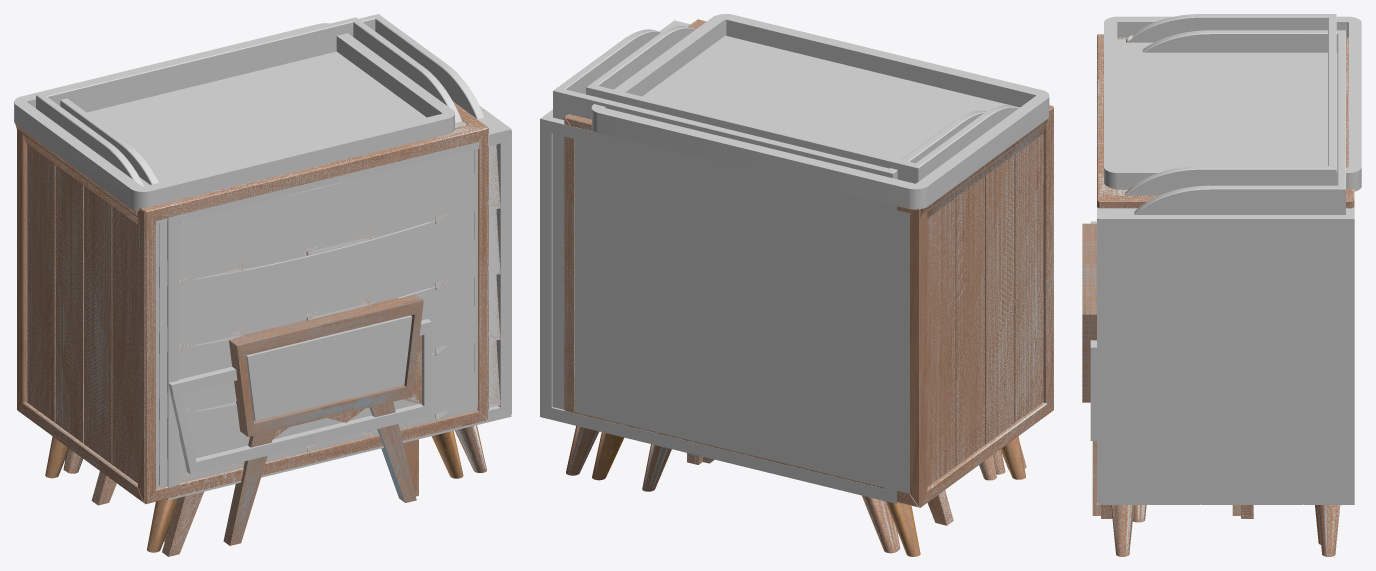
The model's file is Furniture-52.fbx.
3 views of the same model, side by side, from view 1: azimuth 30°, elevation 25°; view 2: azimuth 150°, elevation 25°; view 3: azimuth 270°, elevation 25° (orthographic). The views are drawn at different scales.
Visible parts, largest first — view 1: Group44, Group4, Group15, Group24, Group11, Group47, Group29, Group7, Group46, Group18, Group21, Group25 (+16 smaller); view 2: Group12, Group44, Group4, Group29, Group7, Group11, Group28, Group6, Group42, Group_103_2, Group_143_4, Group_143_2 (+5 smaller); view 3: Group29, Group44, Group28, Group11, Group8, Group46, Group_143_2, Group_143_1, Group25, Group_9_1.
Boxes of the visible parts, x1,y1,x2,y2 form: Group44: (14, 23, 454, 210); Group4: (26, 143, 137, 483); Group15: (159, 211, 474, 353); Group24: (159, 150, 474, 287); Group11: (36, 17, 461, 186); Group47: (246, 315, 412, 421); Group29: (166, 105, 511, 500); Group7: (17, 128, 488, 503); Group46: (229, 294, 423, 436); Group18: (159, 343, 474, 485); Group21: (159, 277, 474, 419); Group25: (168, 319, 431, 474); Group12: (574, 139, 909, 493); Group44: (591, 14, 1049, 209); Group4: (927, 134, 1043, 486); Group29: (540, 20, 898, 503); Group7: (564, 108, 1053, 507); Group11: (586, 26, 1018, 183); Group28: (553, 29, 986, 179); Group6: (573, 402, 1053, 507); Group42: (920, 119, 1047, 218); Group_103_2: (885, 501, 920, 556); Group_143_4: (862, 495, 897, 553); Group_143_2: (566, 426, 599, 475); Group29: (1097, 192, 1354, 504); Group44: (1104, 16, 1361, 191); Group28: (1134, 30, 1345, 214); Group11: (1125, 14, 1336, 195); Group8: (1097, 34, 1354, 208); Group46: (1082, 223, 1096, 402); Group_143_2: (1317, 505, 1340, 556); Group_143_1: (1111, 505, 1134, 556); Group25: (1090, 221, 1096, 440); Group_9_1: (1092, 441, 1240, 515).
Bounding box in the file's own units: 0.9914 × 0.9686 × 0.6503.
